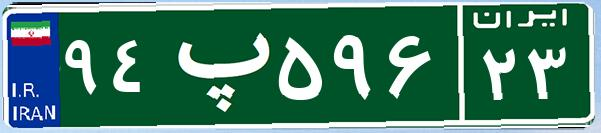2: (475, 38, 525, 113)
3: (525, 38, 570, 115)
4: (110, 28, 158, 105)
5: (273, 28, 330, 110)
6: (385, 28, 445, 110)
9: (330, 28, 385, 110), (57, 26, 110, 107)
پ: (158, 15, 273, 115)
